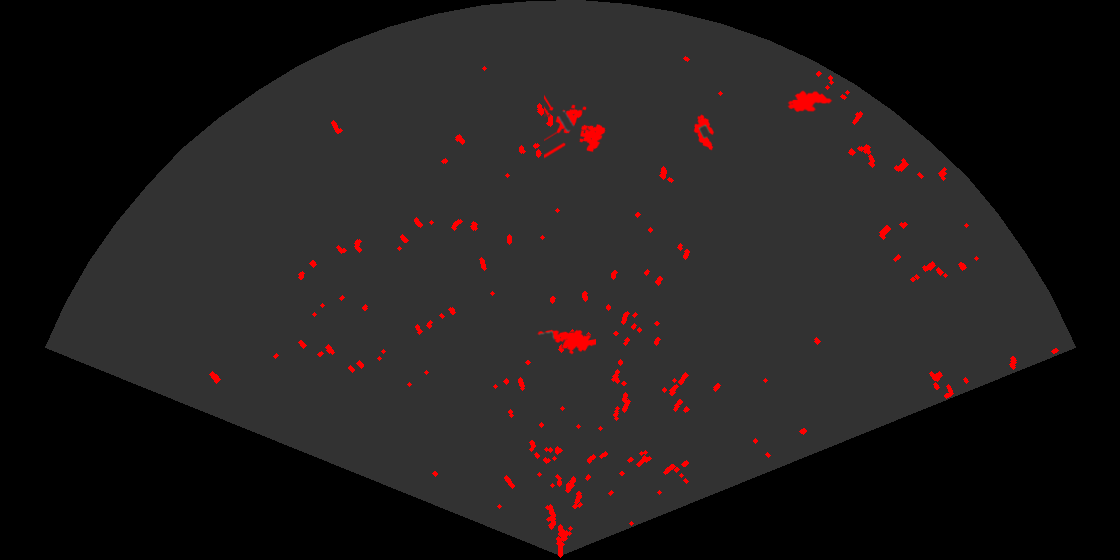AUV: (786, 89, 834, 114), (692, 113, 716, 152)
cage: (544, 93, 607, 160)
frogman: (536, 328, 596, 356)
